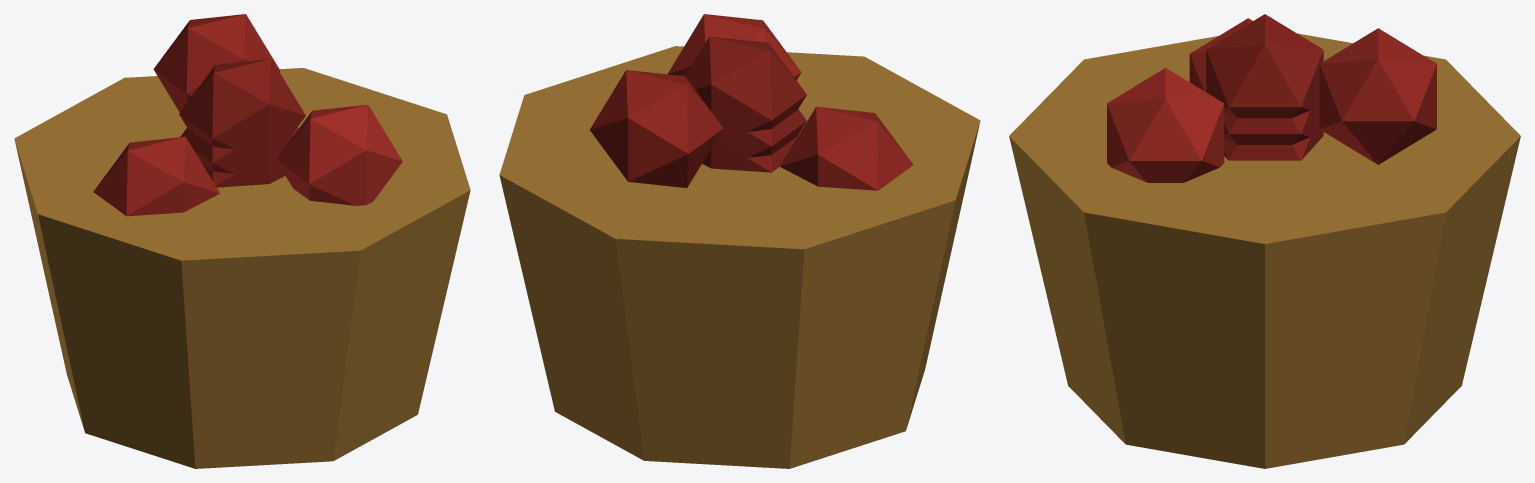
File: basket.glb
3 views of the same model, side by side, from view 1: azimuth 30°, elevation 25°; view 2: azimuth 150°, elevation 25°; view 3: azimuth 270°, elevation 25° (orthographic). The views are drawn at different scales.
Visible parts, largest first — view 1: props/basket; view 2: props/basket; view 3: props/basket.
Boxes of the visible parts, x1=… form: props/basket: x1=14, y1=14, x2=470, y2=468; props/basket: x1=499, y1=14, x2=980, y2=468; props/basket: x1=1009, y1=14, x2=1520, y2=468.
Size of the model in its own units: 0.52 by 0.3995 by 0.52.
